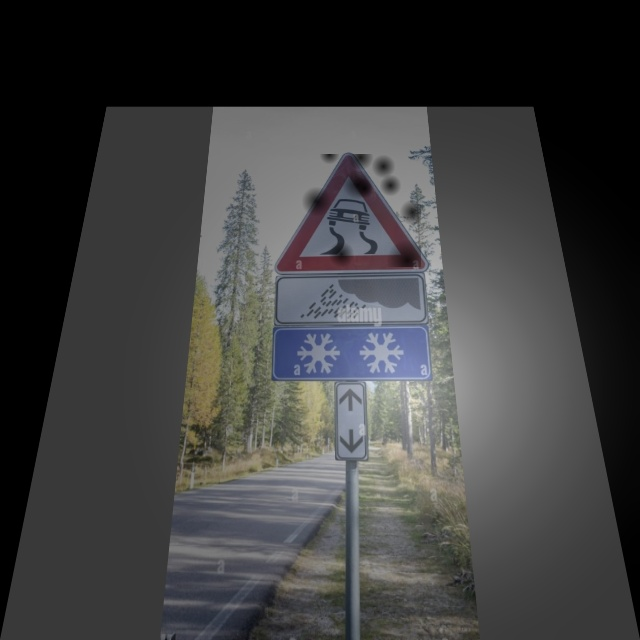Slippery_Road: (281, 154, 421, 267)
